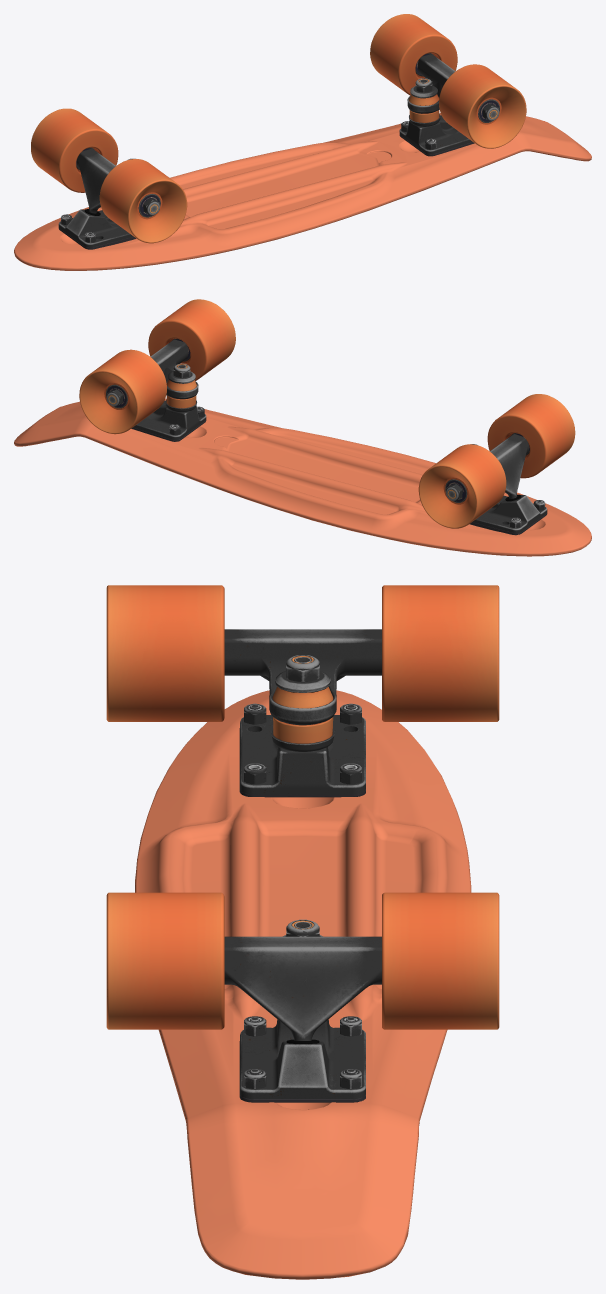
The model's file is skateboard.glb.
3 views of the same model, one above another, from view 1: azimuth 30°, elevation 25°; view 2: azimuth 150°, elevation 25°; view 3: azimuth 270°, elevation 25° (orthographic). The views are drawn at different scales.
Visible parts, largest first — view 1: Wheel_Wheel_0; view 2: Wheel_Wheel_0; view 3: Wheel_Wheel_0.
Boxes of the visible parts, x1,y1,x2,y2 form: Wheel_Wheel_0: [14, 14, 591, 270]; Wheel_Wheel_0: [14, 299, 591, 556]; Wheel_Wheel_0: [106, 585, 499, 1279].
Bounding box in the file's own units: 0.556 × 0.1212 × 0.169.
3 materials, 3 textured.
